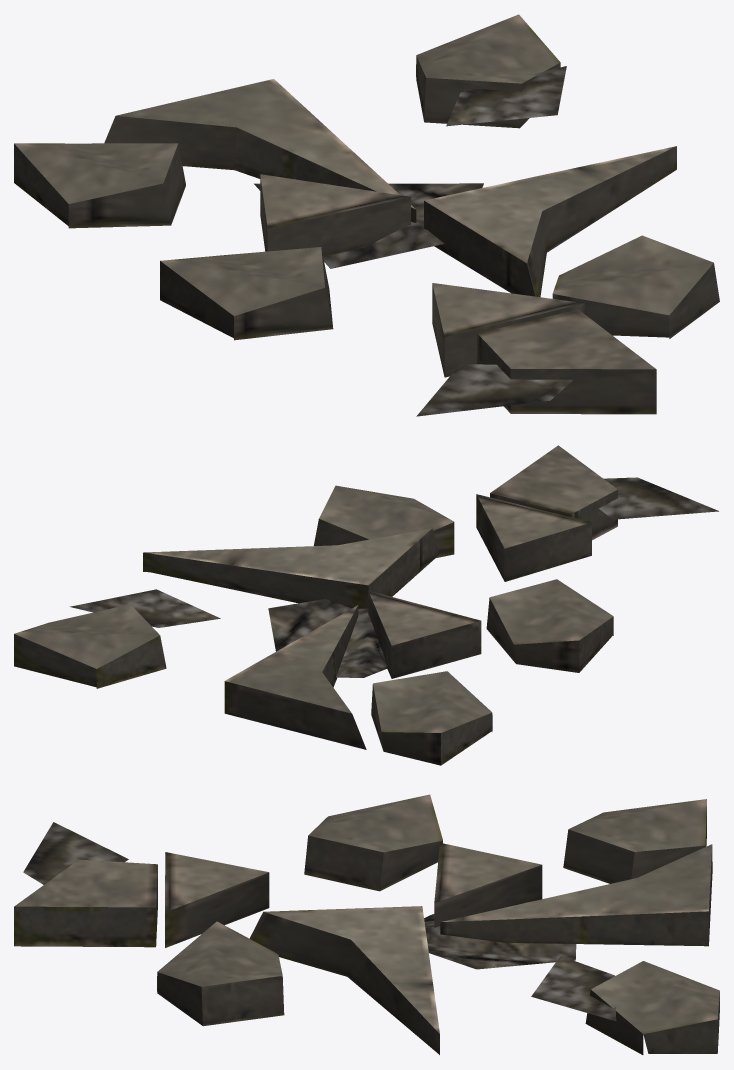
The model's file is SM_EN_2005_suishi03.FBX.
The picture shows the model from 3 angles, top to bottom: view 1: azimuth 30°, elevation 25°; view 2: azimuth 150°, elevation 25°; view 3: azimuth 270°, elevation 25°; orthographic projection. The views are drawn at different scales.
Parts seen in each view (by area): view 1: SM_EN_2005_suishi03; view 2: SM_EN_2005_suishi03; view 3: SM_EN_2005_suishi03.
Part boxes in pixels (left/top/right/bottom): SM_EN_2005_suishi03: left=14, top=14, right=719, bottom=416; SM_EN_2005_suishi03: left=14, top=445, right=718, bottom=765; SM_EN_2005_suishi03: left=14, top=794, right=719, bottom=1054.
Bounding box in the file's own units: 69.58 × 6.72 × 92.18.
